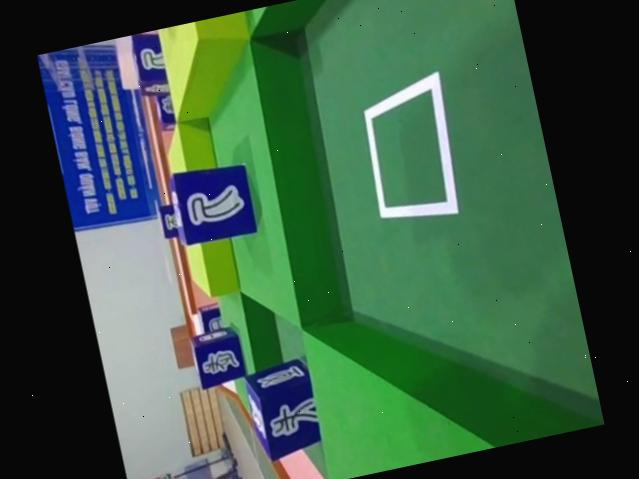R2 Fake Blue: (164, 152, 263, 249), (238, 356, 324, 463), (186, 324, 249, 391), (124, 29, 174, 101), (195, 301, 225, 334)
